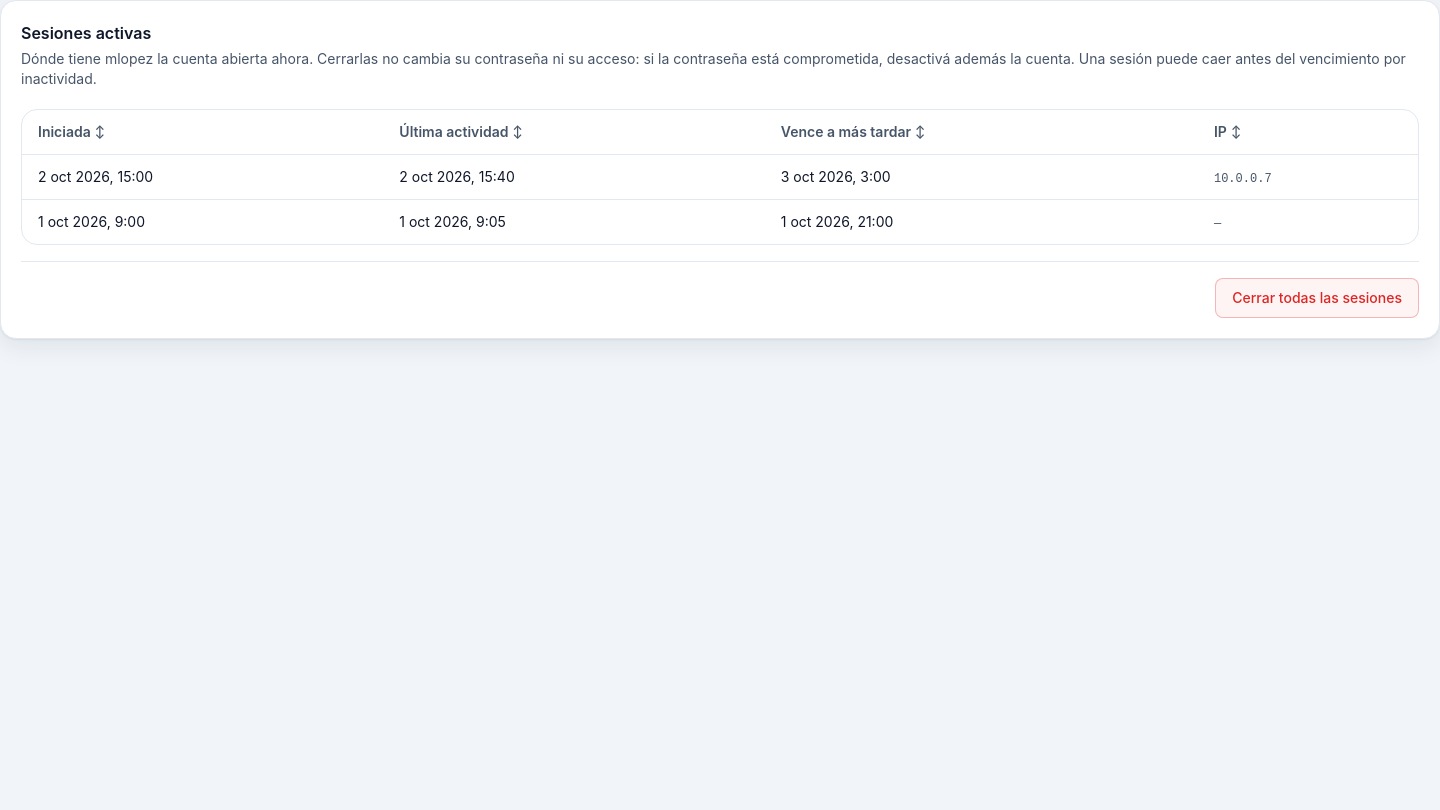
it: GatewayUserSessionsSection › el 409 de la propia cuenta se explica con el copy del módulo
Click the button "Cerrar todas las sesiones" at {"x": 1317, "y": 298}, box [1215, 278, 1419, 318]
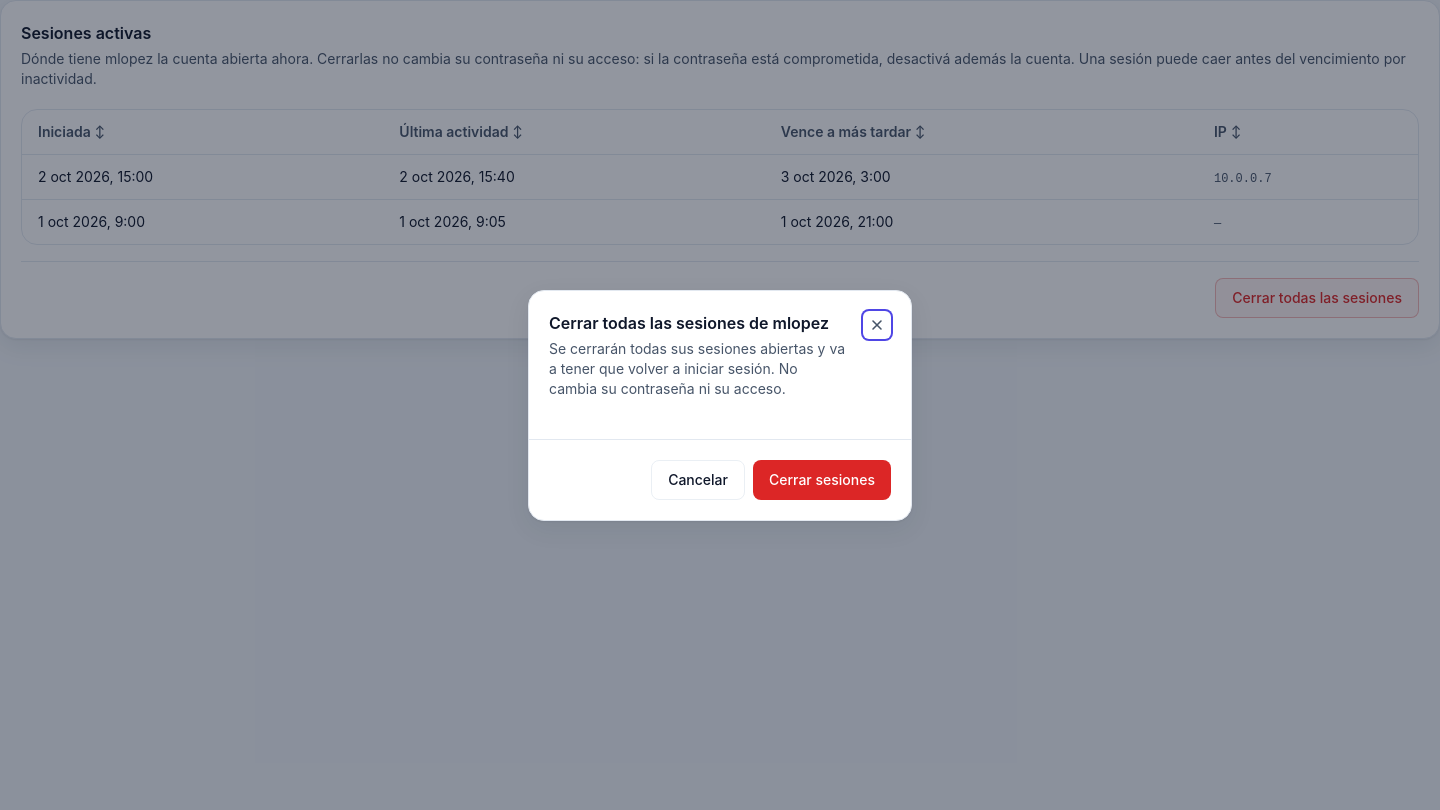
Click the button "Cerrar sesiones" at {"x": 822, "y": 480}, box [753, 460, 891, 500]
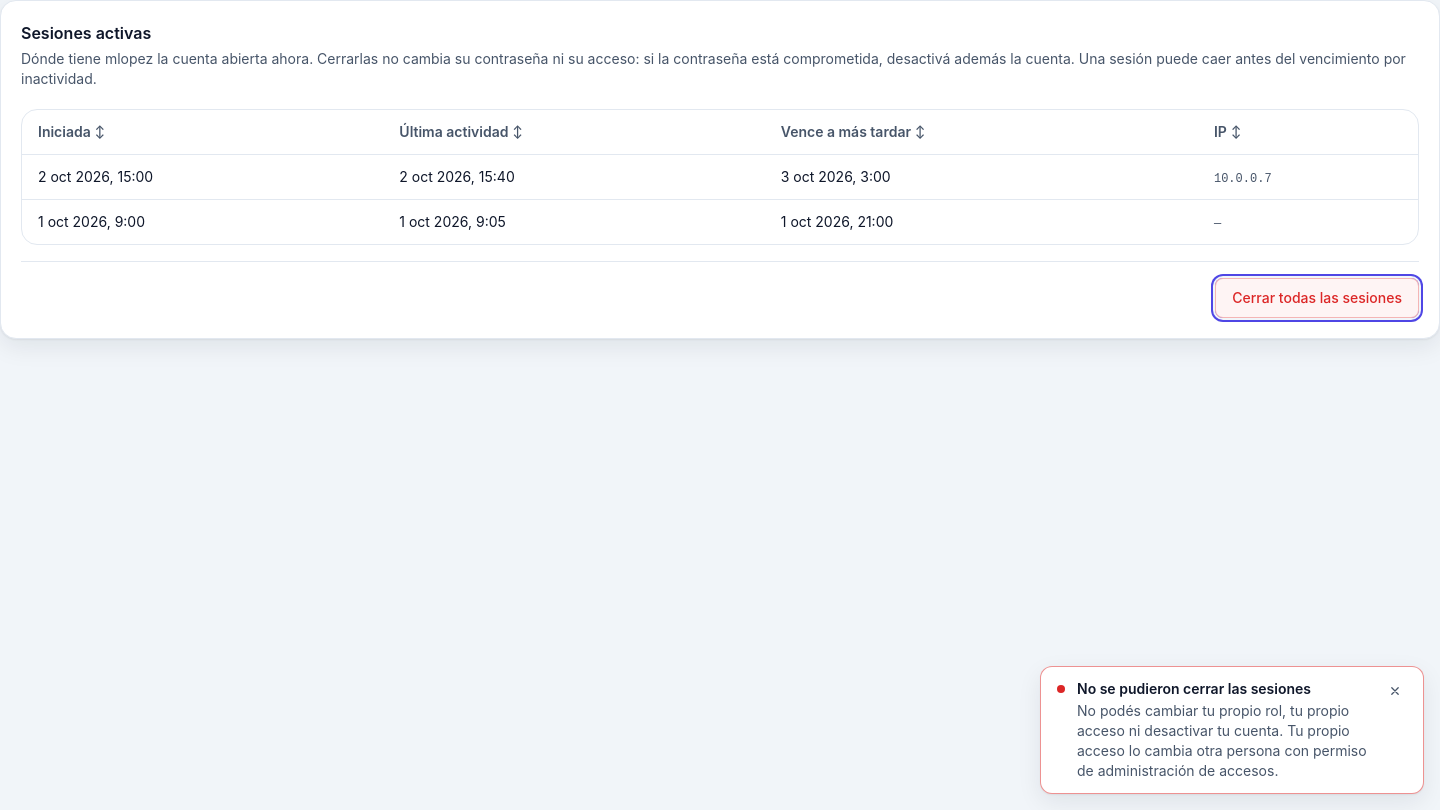
expect the text "No se pudieron cerrar las sesiones" is shown: met, box [1077, 680, 1311, 697]
